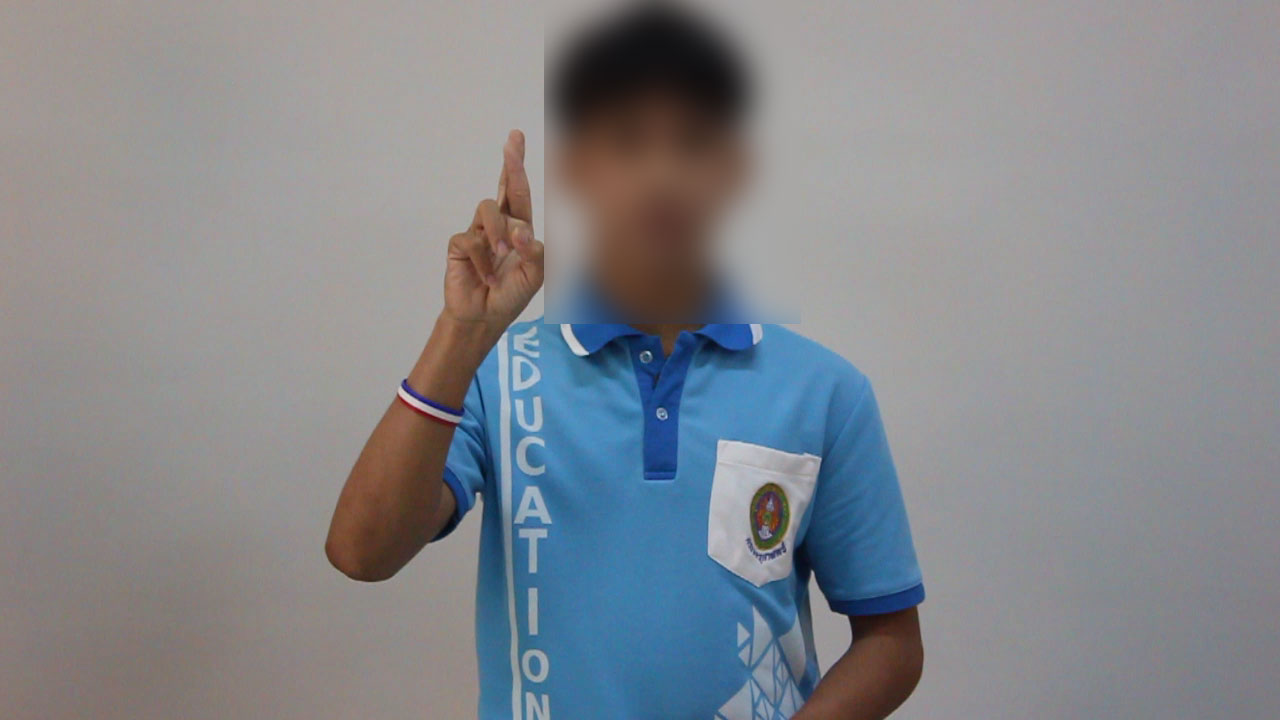rao: (430, 121, 558, 373)
